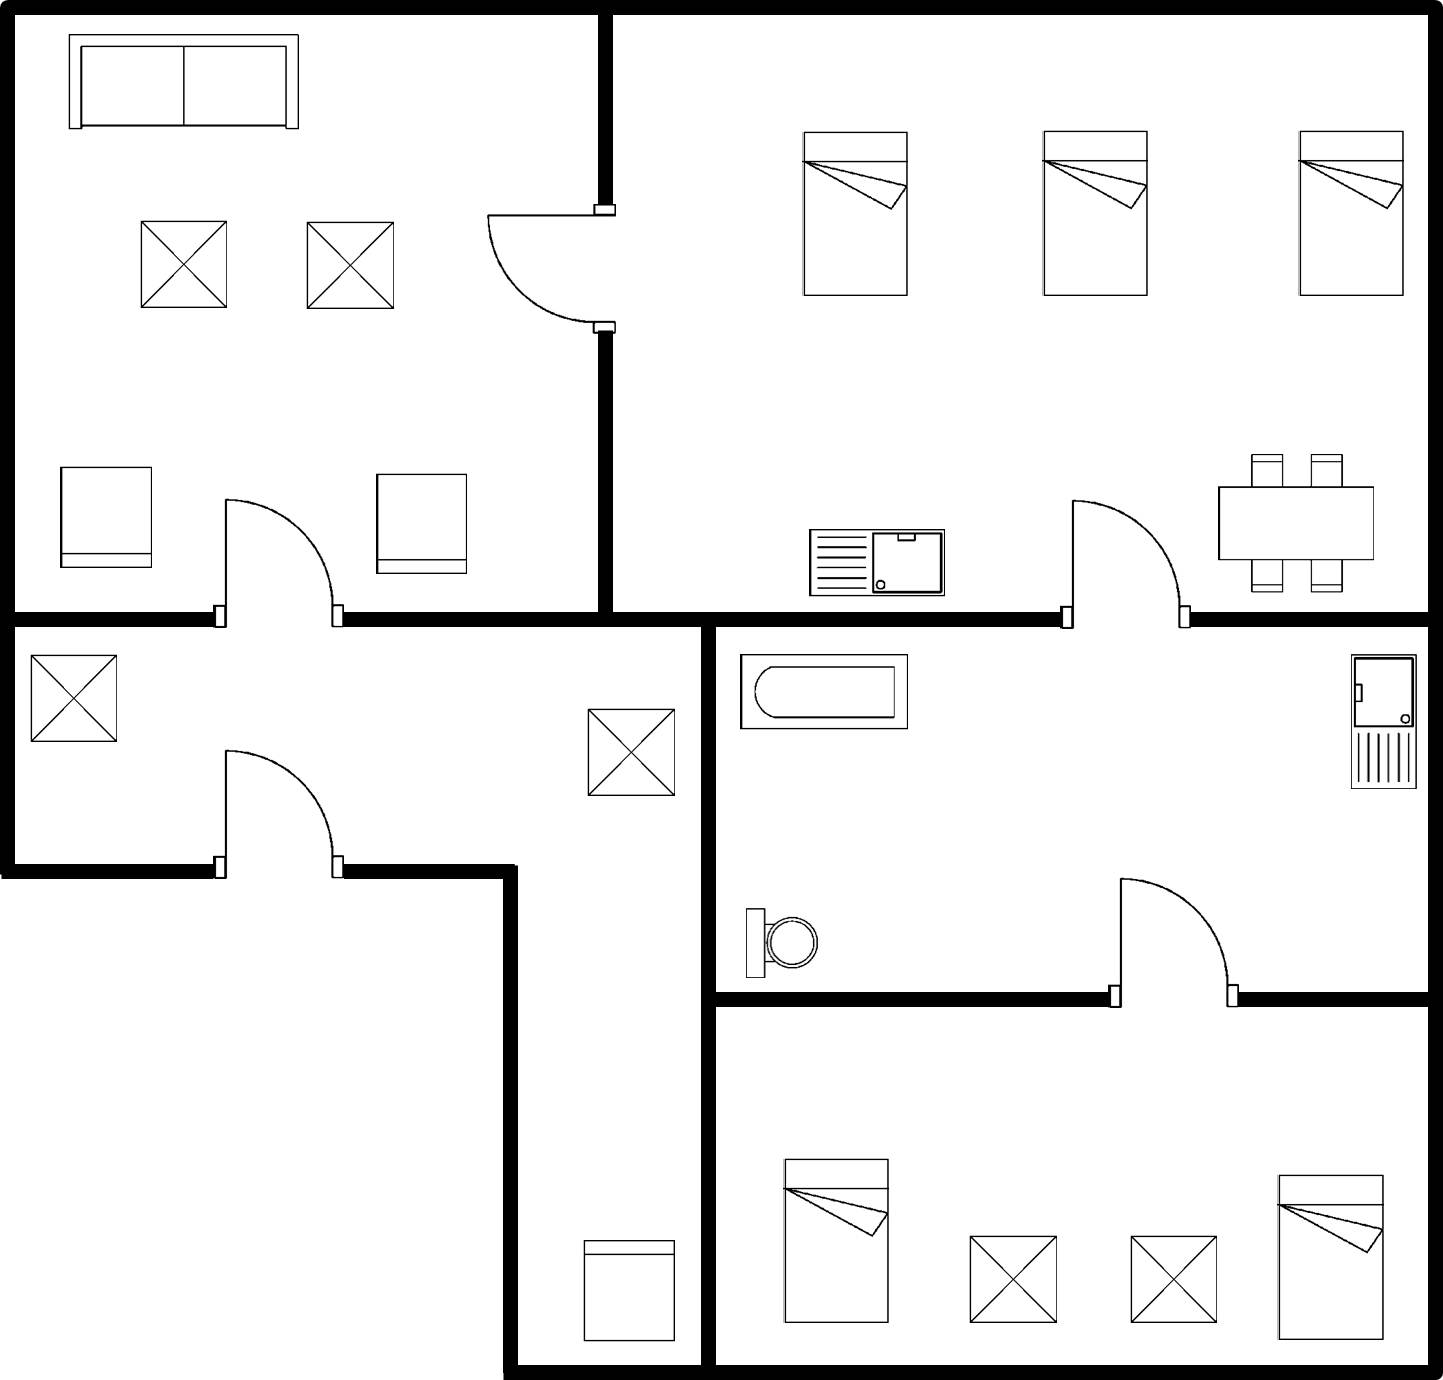bed: (1263, 1161, 1398, 1350), (789, 119, 924, 307), (774, 1147, 902, 1333), (1289, 120, 1415, 306), (1032, 120, 1157, 307)
coffee_table: (573, 699, 685, 816), (955, 1224, 1065, 1333), (131, 211, 242, 318), (296, 212, 404, 320), (1120, 1224, 1227, 1331), (23, 647, 125, 751)
dining_table: (1202, 446, 1393, 601)
large_sink: (735, 899, 823, 988)
large_sofa: (59, 24, 312, 143)
sink: (797, 518, 958, 608), (1340, 645, 1427, 799)
small_sofa: (52, 457, 162, 581), (365, 466, 480, 583), (573, 1230, 685, 1349)
tub: (730, 645, 917, 742)
